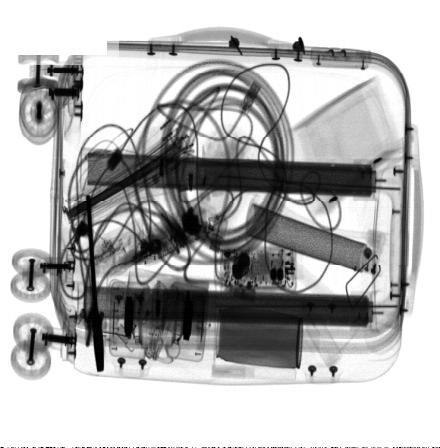Wrench: (85, 194, 104, 373)
